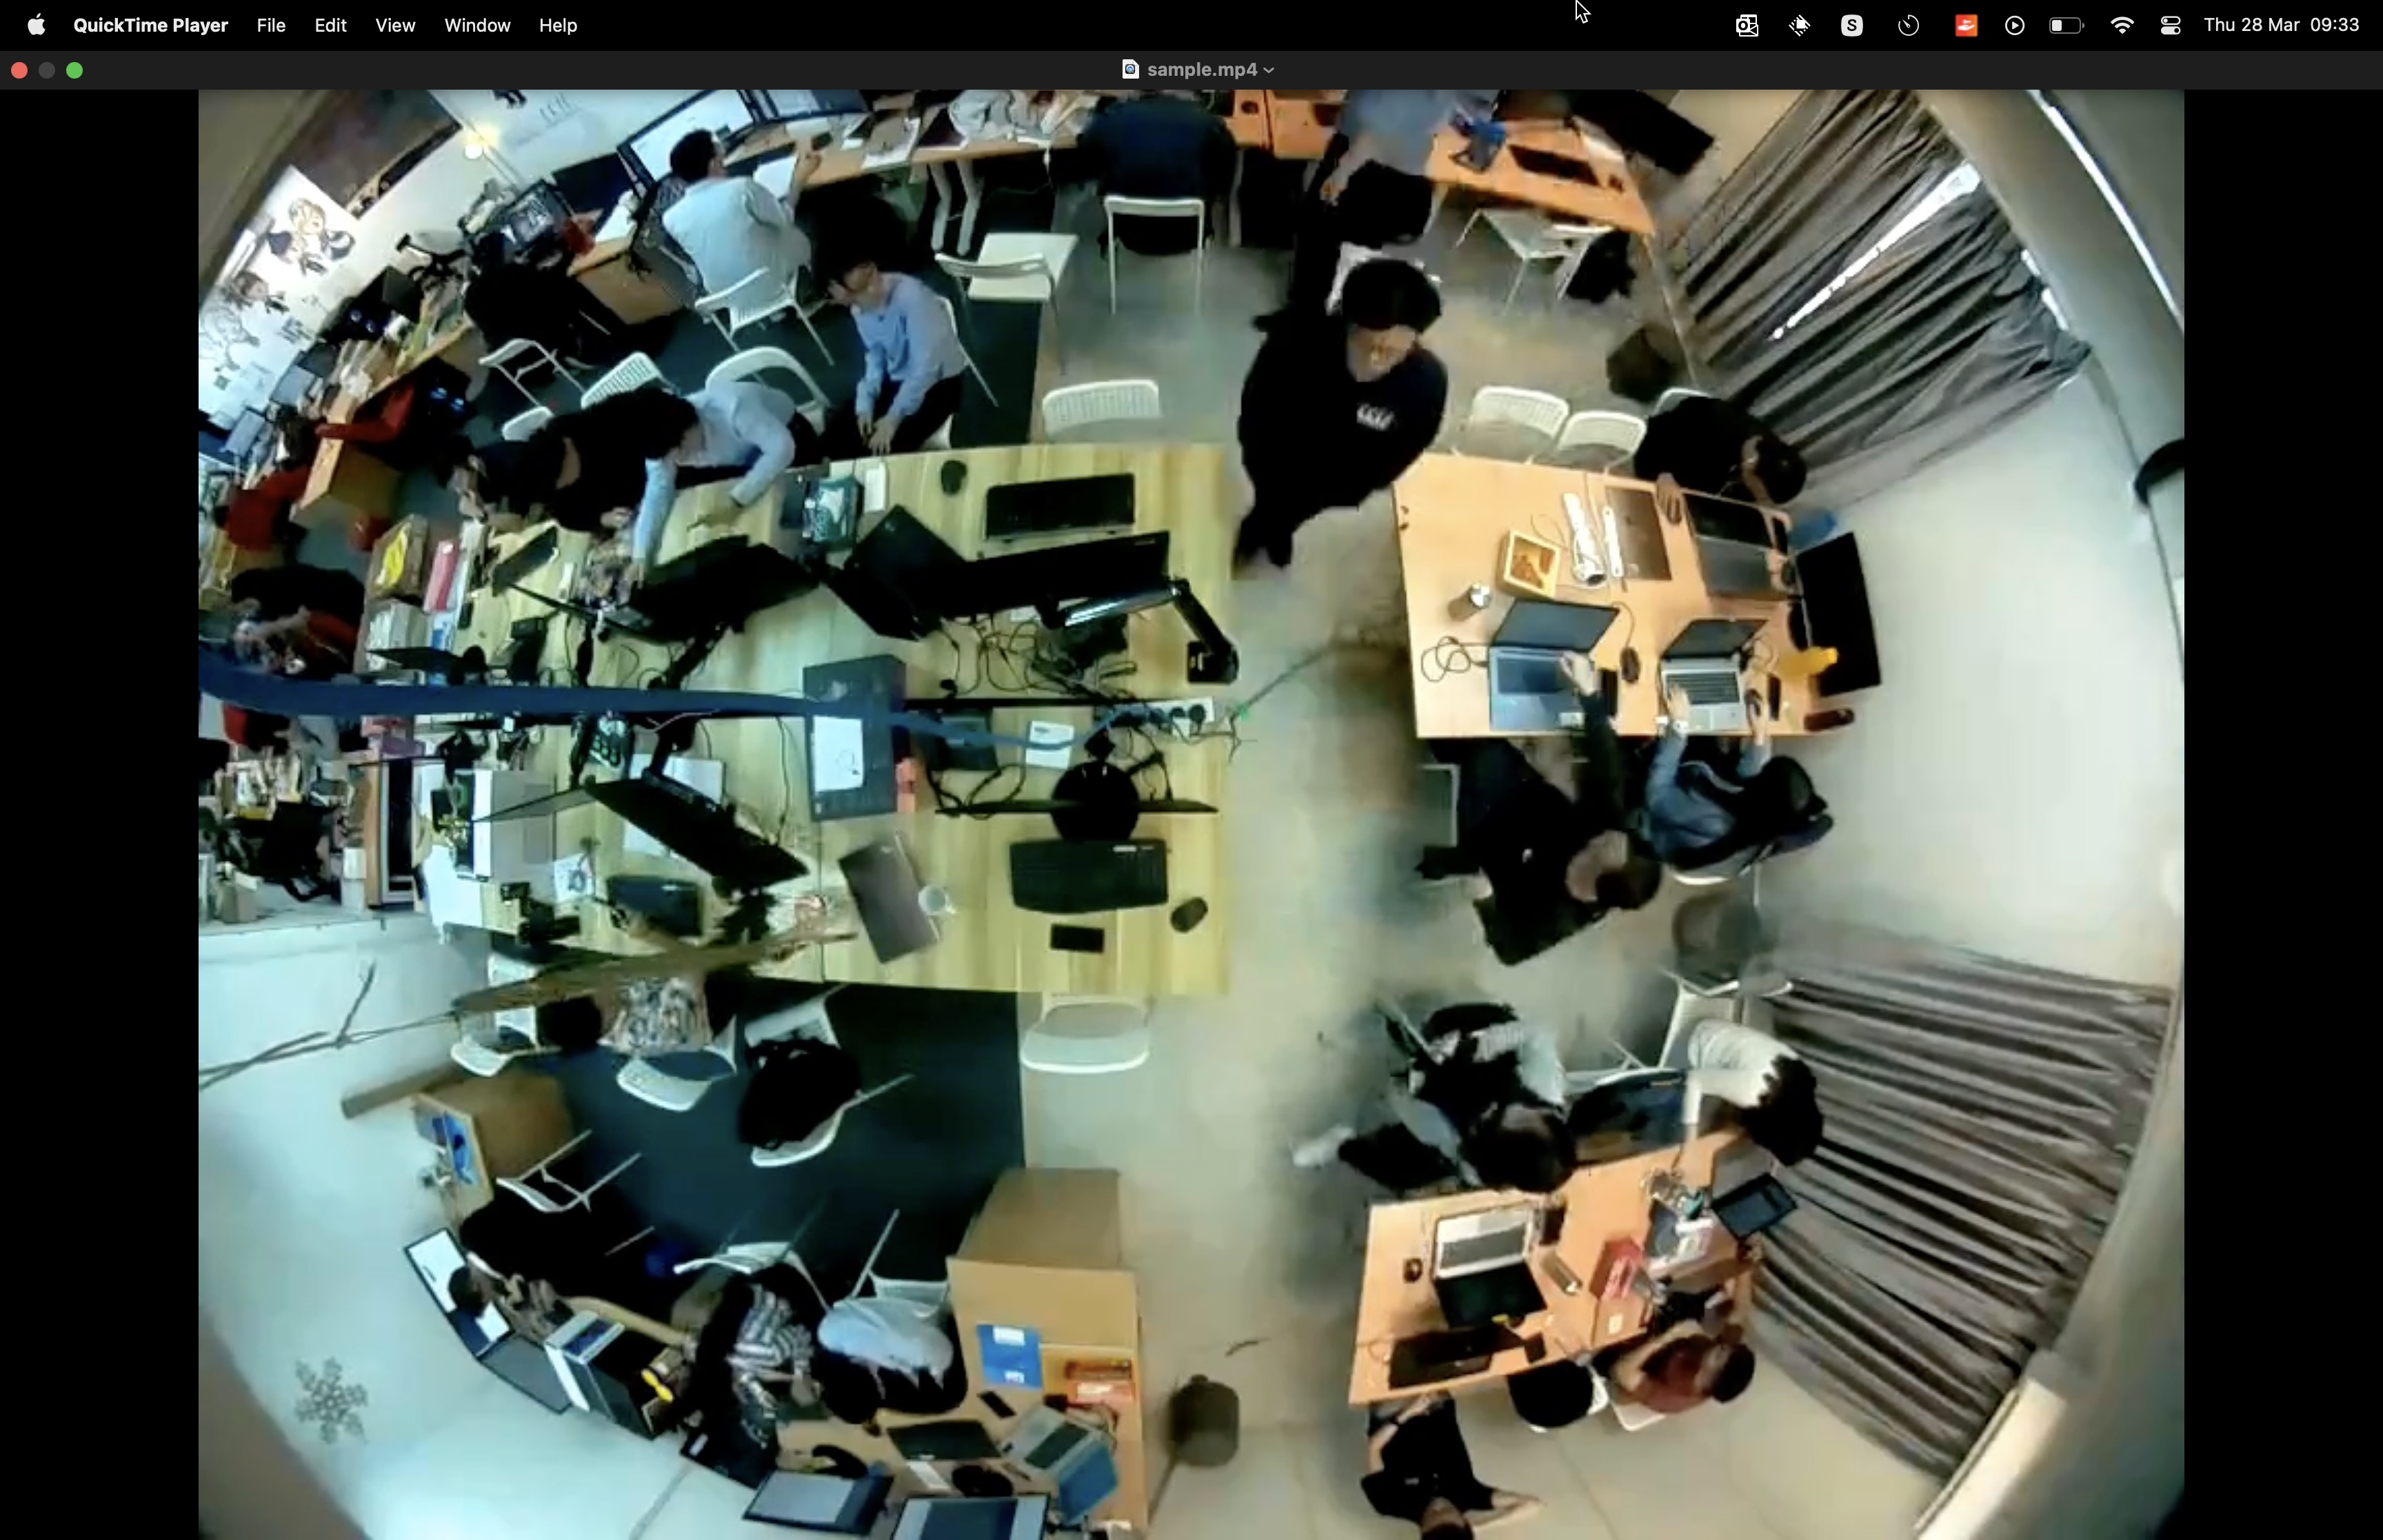Staff: (1230, 260, 1452, 585)
